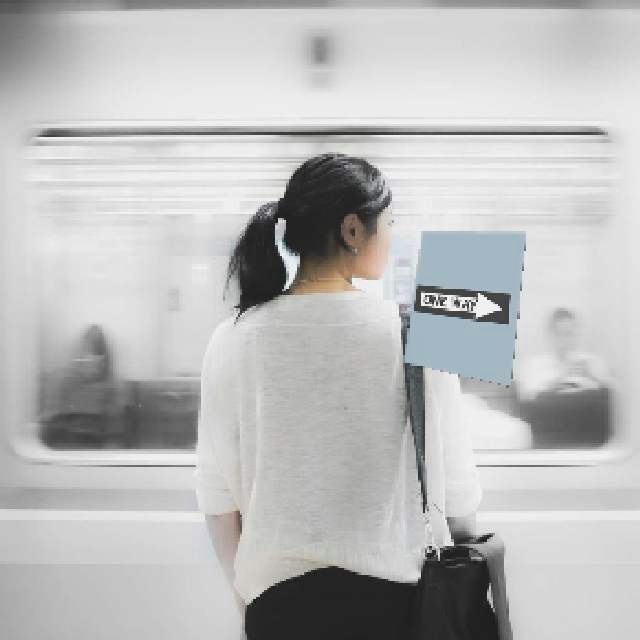ONE_WAY_ right: (412, 280, 510, 323)
